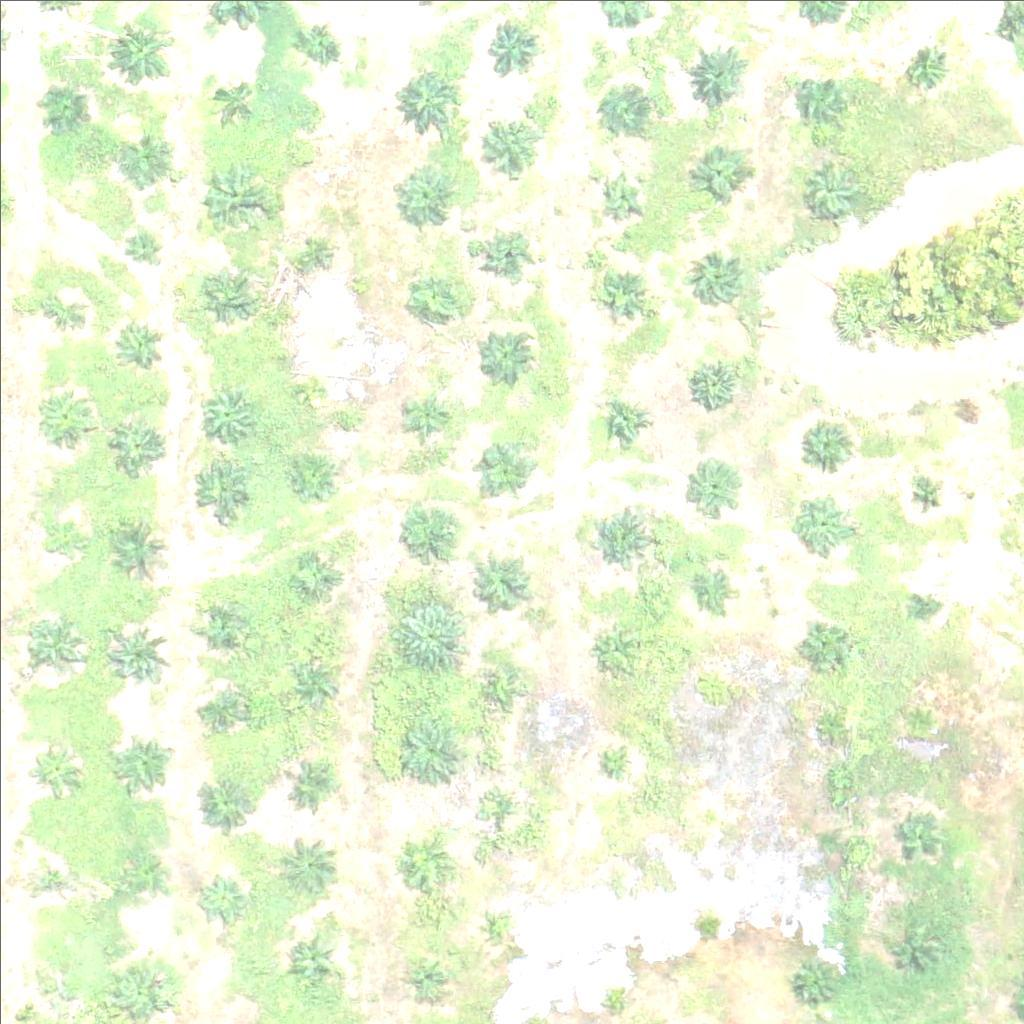Kelapa_Sawit: (395, 712, 470, 788), (391, 494, 466, 570), (196, 168, 271, 244), (391, 598, 466, 674), (474, 552, 537, 615), (189, 456, 252, 519), (686, 38, 749, 101), (589, 506, 652, 569), (273, 832, 336, 895), (194, 763, 257, 826), (111, 725, 173, 788), (113, 20, 175, 83), (396, 72, 458, 135), (478, 109, 540, 172), (198, 264, 260, 327), (110, 512, 172, 575), (23, 611, 85, 674), (107, 628, 169, 691), (399, 162, 461, 225), (796, 409, 858, 472), (592, 267, 654, 330), (792, 491, 854, 554), (193, 378, 255, 440), (29, 744, 79, 795), (597, 82, 647, 133), (699, 145, 749, 196), (688, 459, 738, 510), (805, 160, 855, 211), (794, 77, 844, 128), (691, 358, 741, 409), (600, 394, 650, 445), (798, 622, 848, 673), (25, 850, 75, 901), (113, 852, 163, 903), (195, 875, 245, 926), (287, 933, 337, 984), (486, 18, 536, 68), (479, 234, 529, 284), (476, 440, 526, 490), (480, 330, 530, 380), (290, 457, 340, 507), (291, 553, 341, 603), (109, 422, 159, 472), (39, 390, 89, 440), (126, 127, 176, 177), (413, 274, 463, 324), (694, 256, 744, 306), (398, 832, 448, 882), (40, 80, 90, 130), (209, 71, 259, 121), (294, 14, 344, 64), (286, 231, 336, 281), (900, 44, 950, 94), (197, 687, 247, 737), (195, 603, 245, 653), (289, 667, 339, 717), (284, 762, 334, 812), (402, 949, 452, 999), (114, 318, 164, 368), (787, 952, 837, 1002), (890, 813, 940, 863), (890, 920, 940, 970), (410, 396, 448, 434), (697, 566, 735, 604), (123, 228, 161, 266), (46, 517, 84, 555), (42, 292, 80, 330), (593, 623, 630, 661), (604, 179, 641, 217), (906, 475, 943, 513), (901, 700, 939, 737), (809, 705, 846, 743), (483, 671, 508, 697), (490, 917, 515, 942), (485, 789, 510, 814), (602, 746, 627, 771), (602, 990, 627, 1015), (302, 381, 327, 406), (295, 146, 320, 171), (912, 591, 937, 616), (696, 801, 721, 826)
